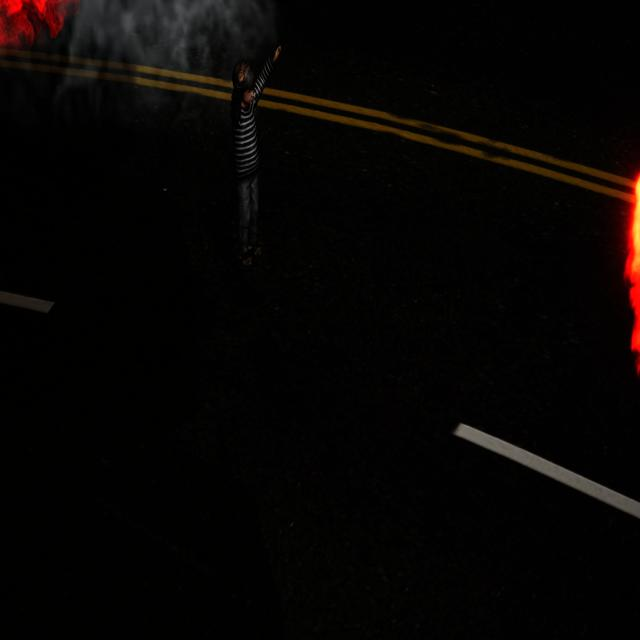Human: (224, 35, 288, 288)
